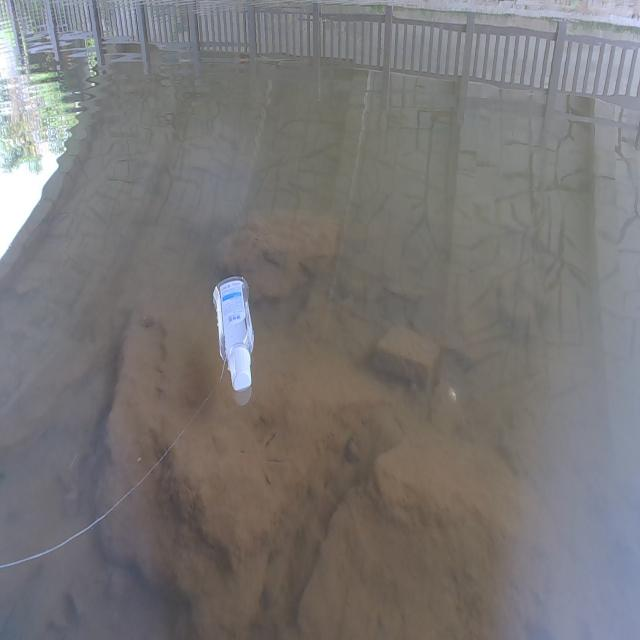Bottle: (212, 273, 255, 392)
